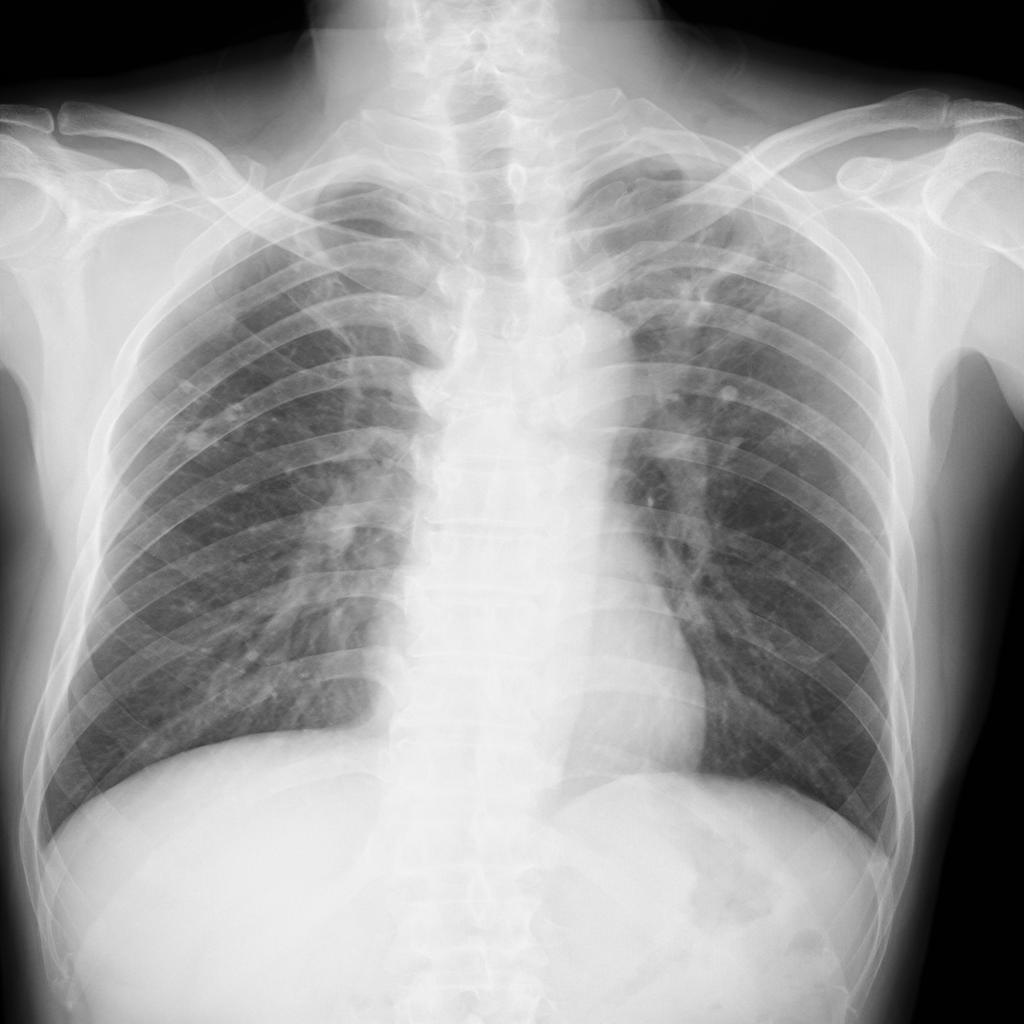Nodule: (719, 383, 740, 403), (729, 435, 748, 447)
